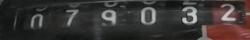digits: (181, 6, 198, 24), (220, 3, 236, 21), (140, 6, 155, 25), (65, 9, 79, 26), (101, 9, 116, 24), (30, 13, 44, 28)
